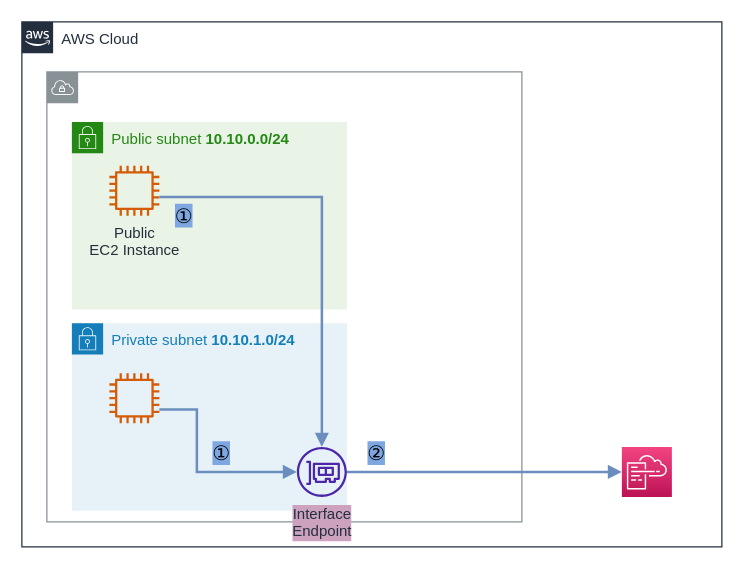
The diagram is 744 pixels wide and 569 high, and some of its shapes have lost their labels. The box of each missing label's shape, as (x1, y1, x2, y2) in pixels:
CloudFormation: (621, 446, 672, 497)
Private EC2 Instance: (109, 372, 159, 422)
VPC 10.10.0.0/16: (46, 71, 522, 522)
